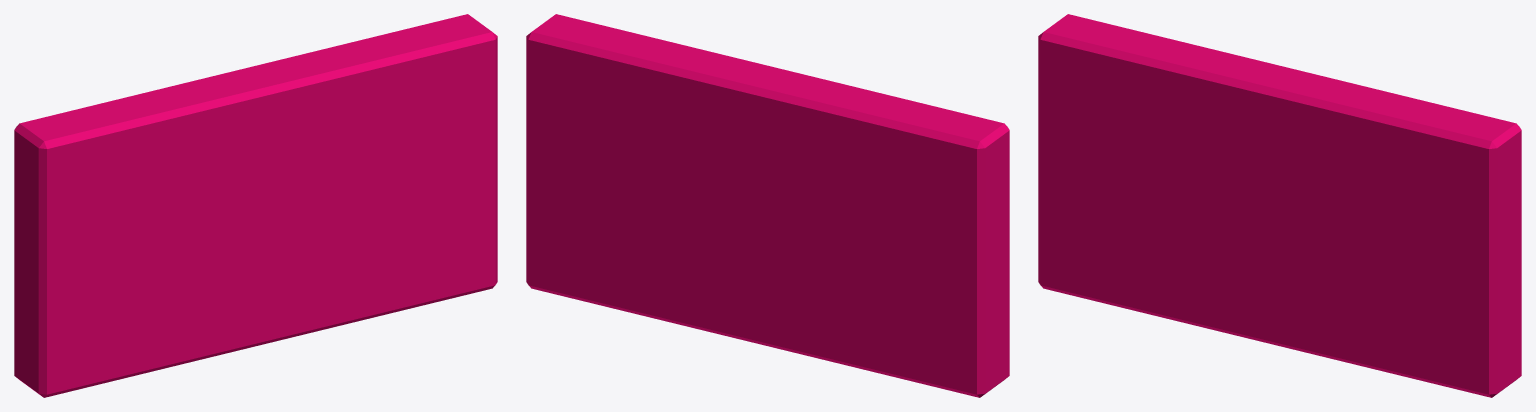
The model's file is Commercials_Bilboard_08_Lod0.fbx.
The picture shows the model from 3 angles, left to right: view 1: azimuth 30°, elevation 25°; view 2: azimuth 150°, elevation 25°; view 3: azimuth 330°, elevation 25°; orthographic projection.
Parts seen in each view (by area): view 1: Commercials_Bilboard_08_Lod0; view 2: Commercials_Bilboard_08_Lod0; view 3: Commercials_Bilboard_08_Lod0.
Part boxes in pixels (left/top/right/bottom): Commercials_Bilboard_08_Lod0: left=14, top=14, right=497, bottom=397; Commercials_Bilboard_08_Lod0: left=526, top=14, right=1009, bottom=397; Commercials_Bilboard_08_Lod0: left=1038, top=14, right=1521, bottom=397.
Size of the model in its own units: 139 by 74.45 by 16.13.
